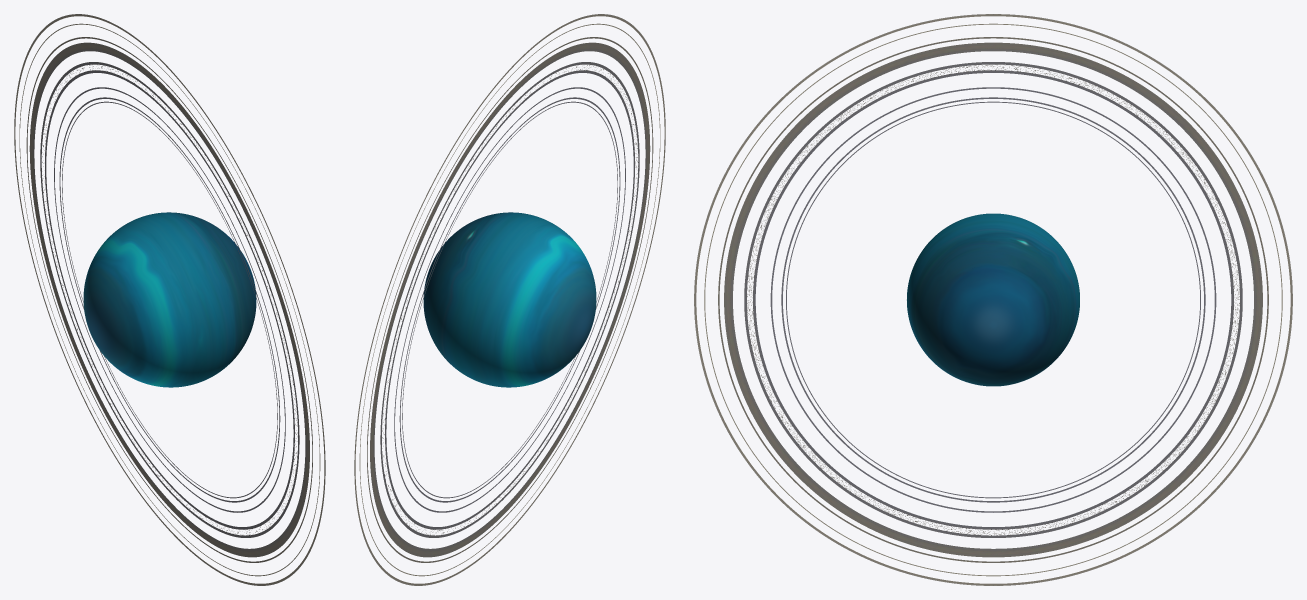
The model's file is uranus.glb.
3 renders of one model, left to right at view 1: azimuth 30°, elevation 25°; view 2: azimuth 150°, elevation 25°; view 3: azimuth 270°, elevation 25°, orthographic.
Parts seen in each view (by area): view 1: Surface, Rings; view 2: Surface, Rings; view 3: Rings, Surface.
Boxes of the visible parts, x1,y1,x2,y2 form: Surface: (83,212,256,387); Rings: (14,14,325,585); Surface: (423,212,596,387); Rings: (354,14,665,585); Rings: (694,14,1292,585); Surface: (907,213,1079,386).
Size of the model in its own units: 1.96 by 6.85 by 6.91.
2 materials, 2 textured.
